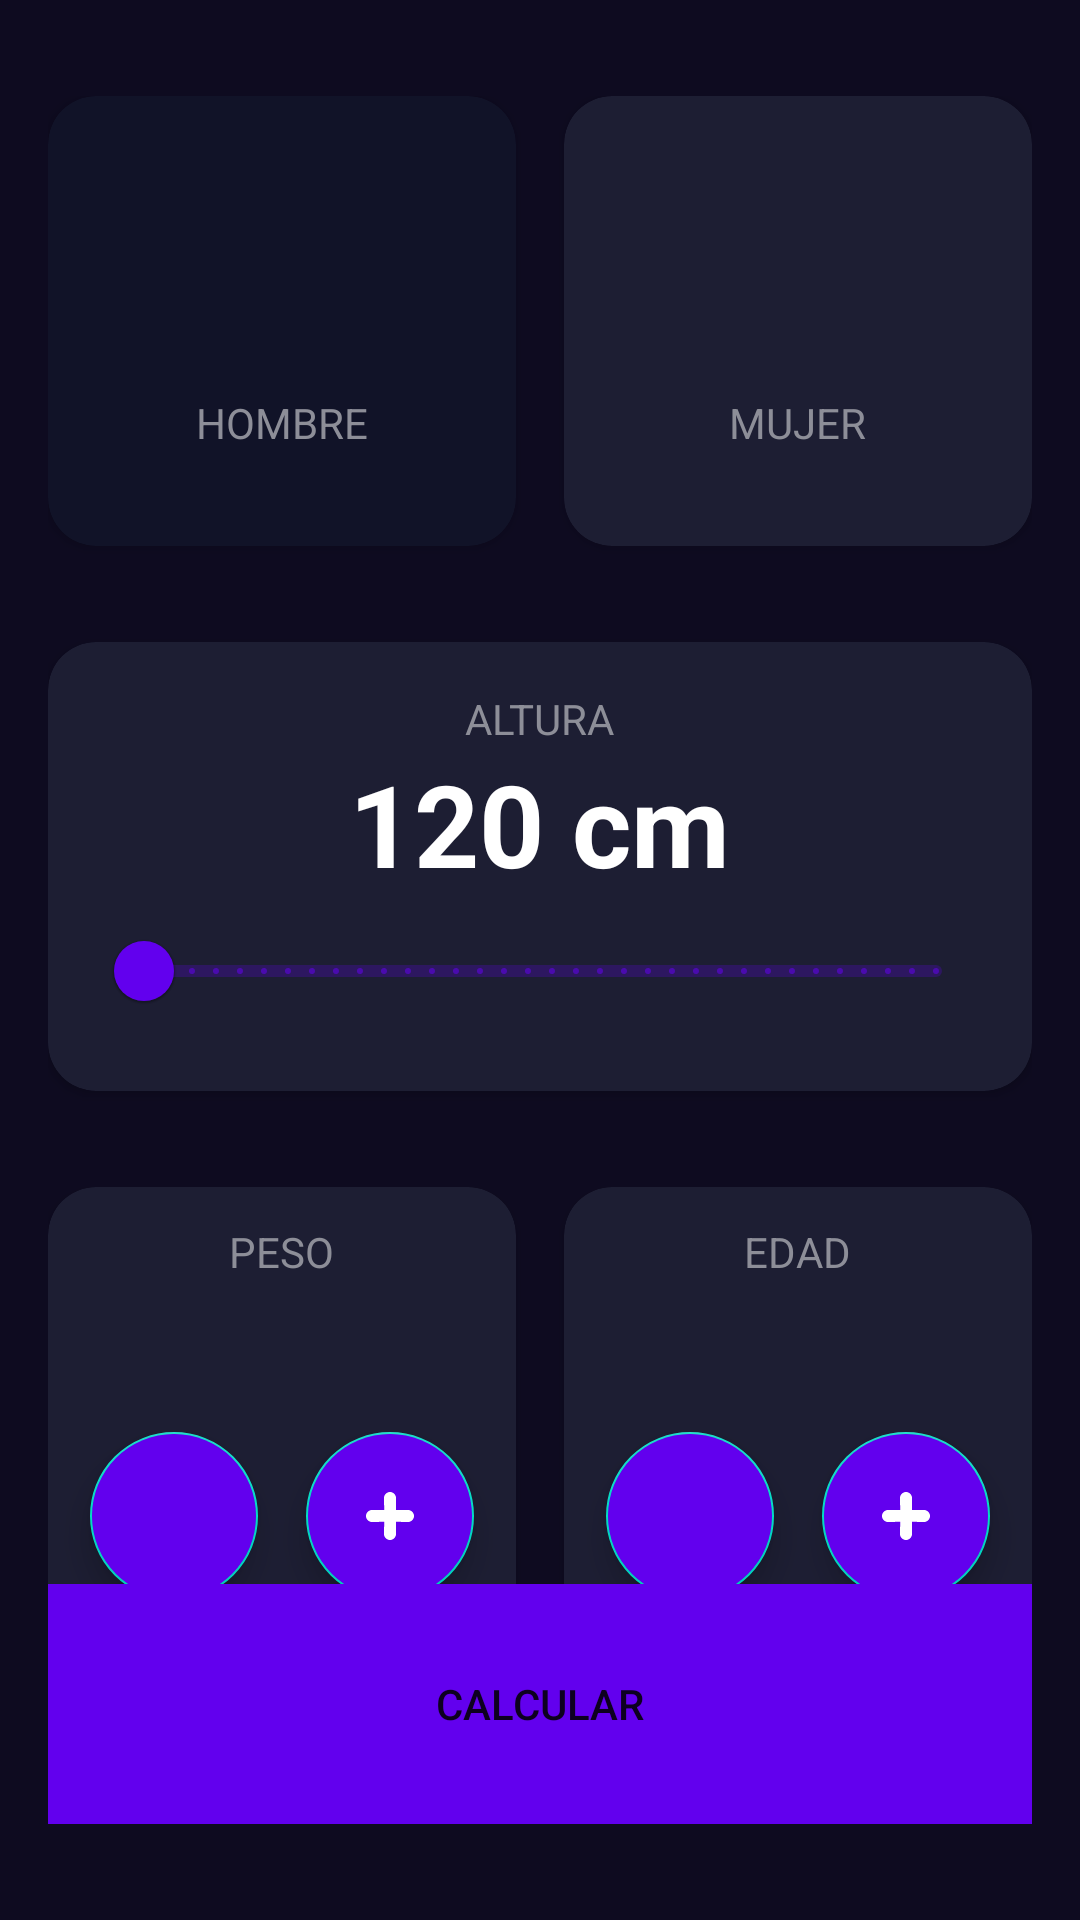

Icon click points for this 1080x1920 phone screenshot, format [x,y]:
plus: [390,1516], [906,1516]
